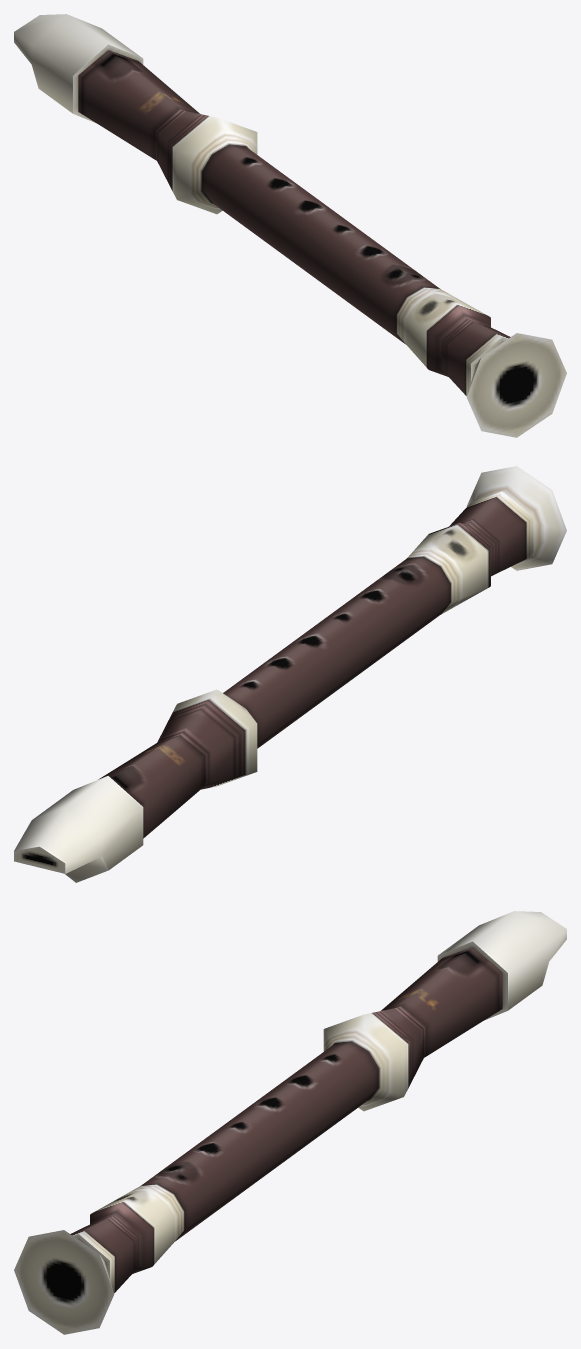
The model's file is Recorder_sp_01_01.fbx.
3 renders of one model, top to bottom at view 1: azimuth 30°, elevation 25°; view 2: azimuth 150°, elevation 25°; view 3: azimuth 330°, elevation 25°, orthographic.
Visible parts, largest first — view 1: recorder_sp_01_01; view 2: recorder_sp_01_01; view 3: recorder_sp_01_01.
Part boxes in pixels (x1,y1,x2,y2): recorder_sp_01_01: (14, 14, 566, 437); recorder_sp_01_01: (14, 466, 566, 882); recorder_sp_01_01: (14, 911, 566, 1334).
Size of the model in its own units: 3.88 by 3.88 by 31.99.
